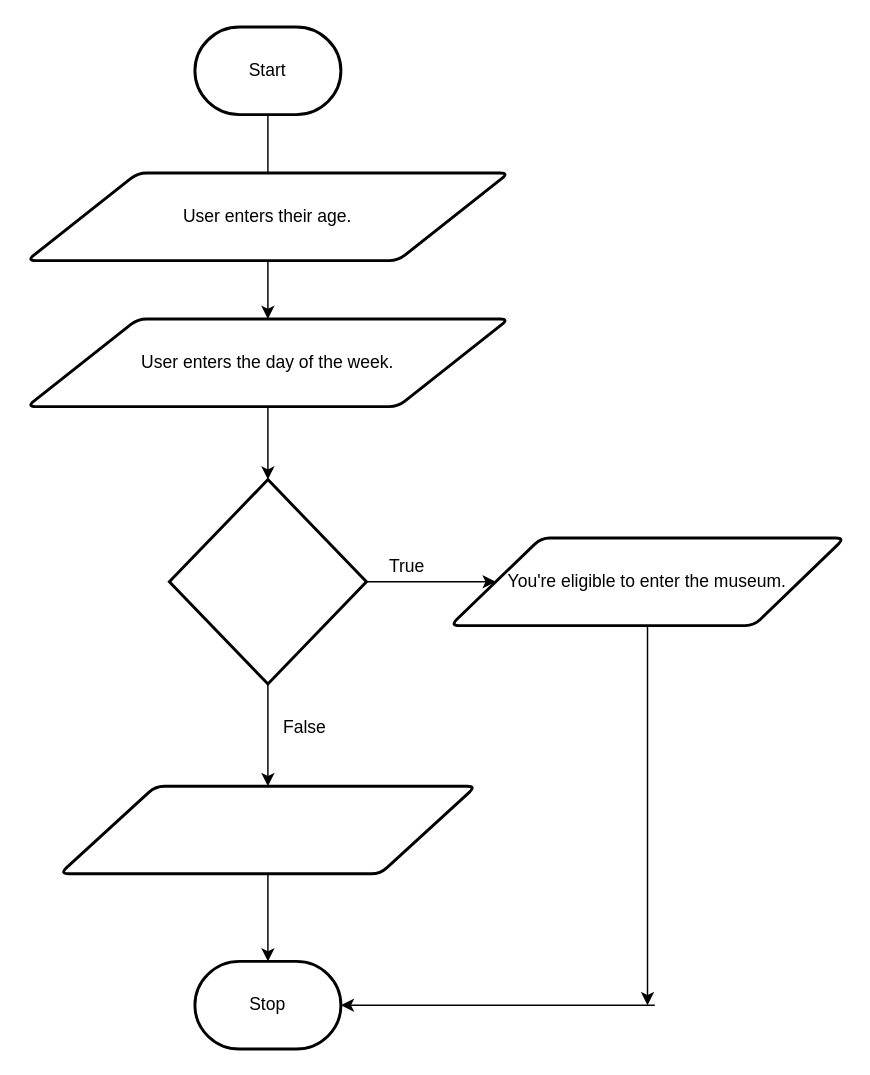
Image size: 870x1075. Some labels were removed from this diagram. Here are the shapes that lost their labels. From the top down, the centre of each, then its label:
At [267,581]: "If day is Saturday or Sunday and user is > 5 and < 80.".
At [267,829]: "You're not eligible to enter the museum.".
